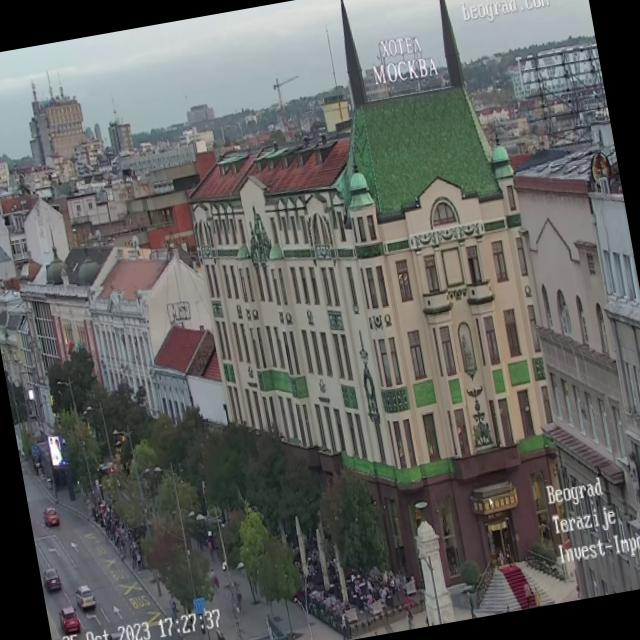car: (57, 604, 81, 636), (74, 582, 96, 610), (41, 566, 61, 592), (41, 506, 60, 528), (103, 630, 129, 640)
